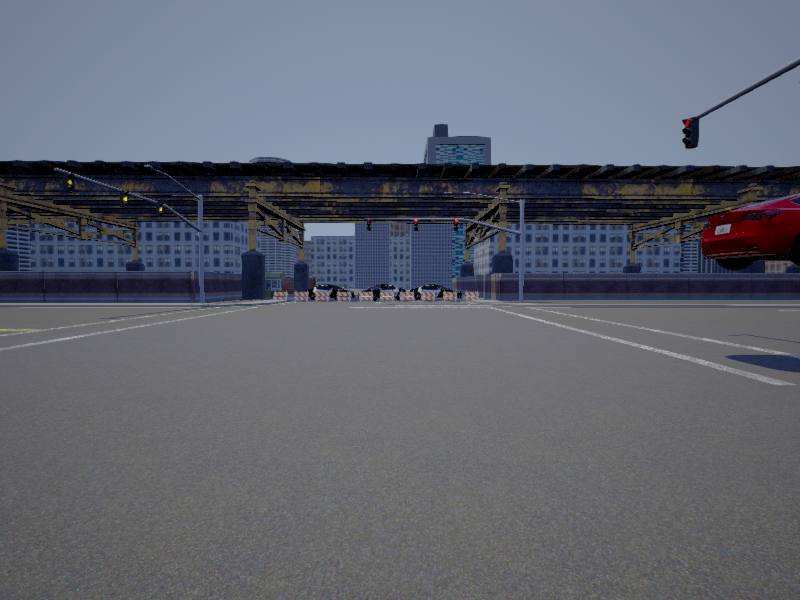Attacker: (702, 194, 800, 270)
